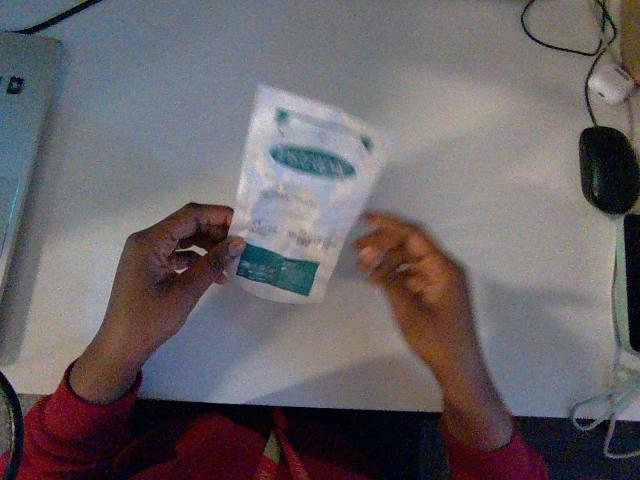gallipot: (229, 86, 389, 302)
